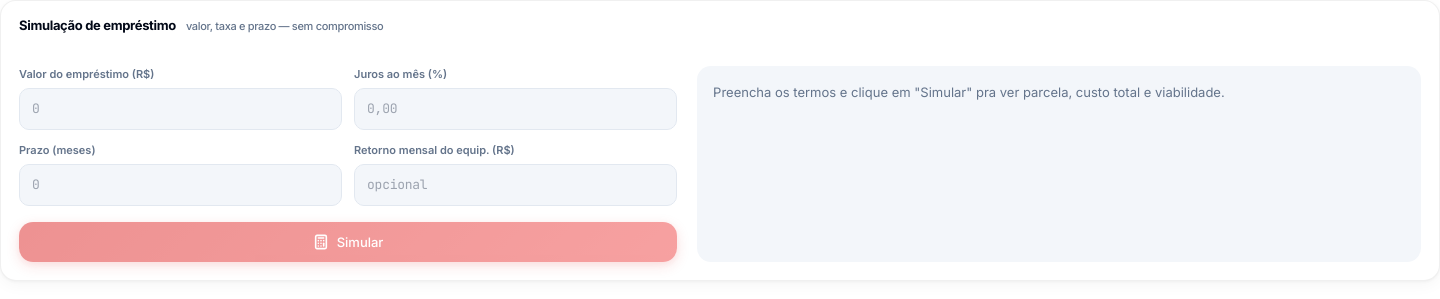
Test: Bancário › Simulador de empréstimo (smoke) › erro do servidor mostra mensagem — não trava em "Calculando…" nem finge sucesso
In the number field labelled "Valor do empréstimo (R$)": [180, 108] box [19,88,342,130], type "20000"
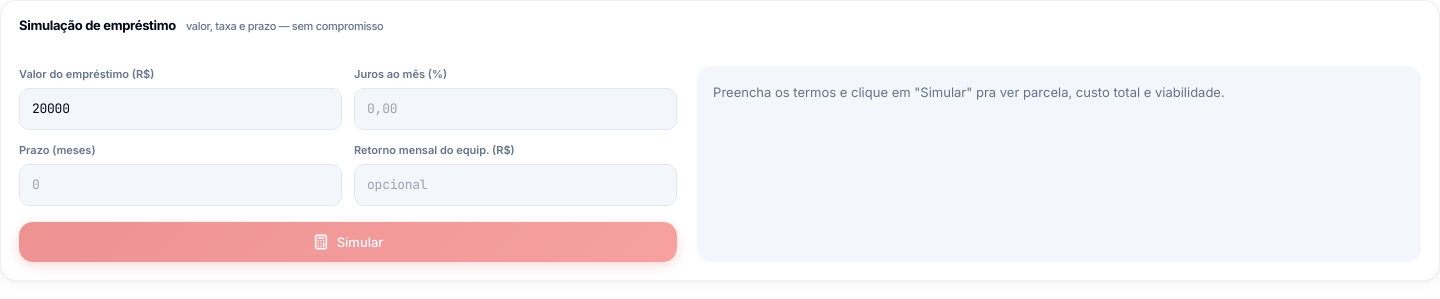
In the number field labelled "Juros ao mês (%)": [516, 108] box [354,88,677,130], type "1.5"
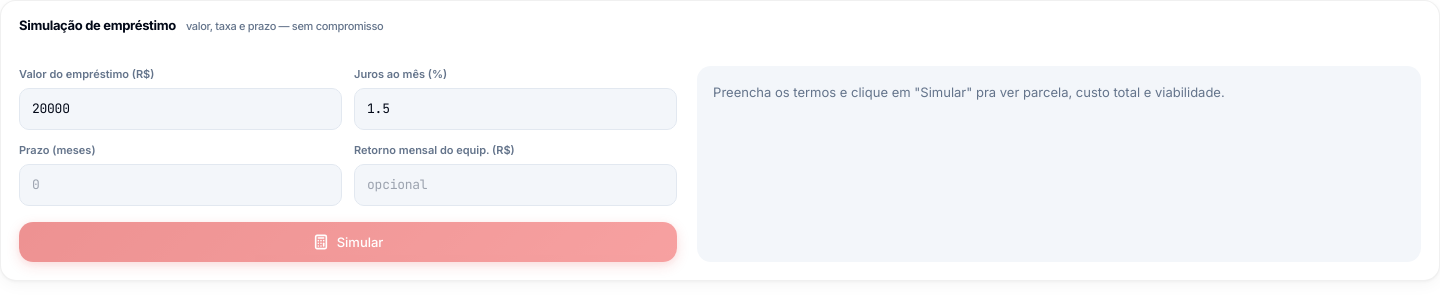
In the number field labelled "Prazo (meses)": [180, 184] box [19,164,342,206], type "12"
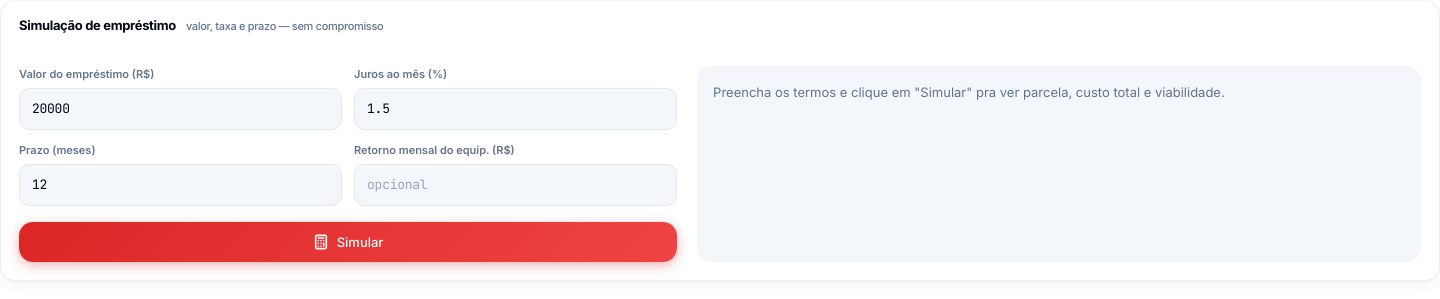
Click the button "Simular": [348, 242] box [19,222,677,262]
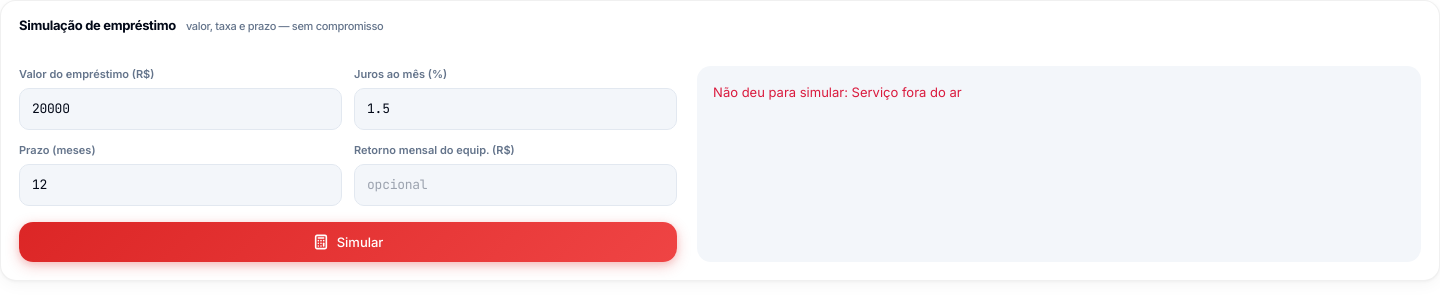
Check: the text "Não deu para simular: Serviço fora do ar" is shown, box [713,84,962,100]
